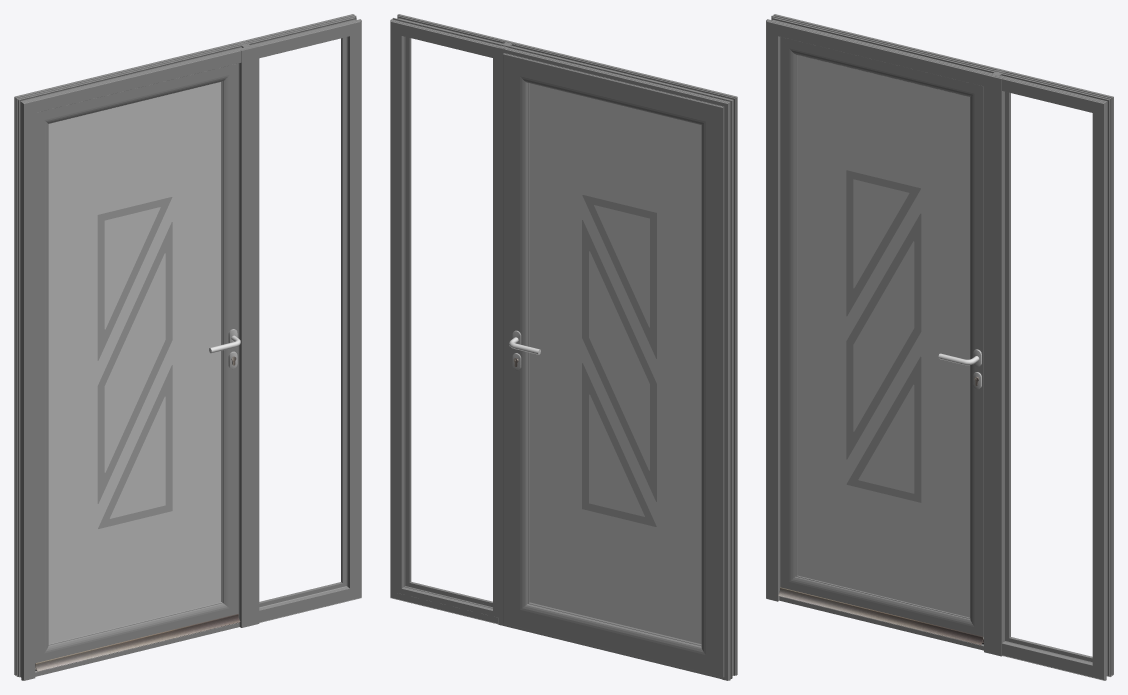
3 views of the same model, side by side, from view 1: azimuth 30°, elevation 25°; view 2: azimuth 150°, elevation 25°; view 3: azimuth 330°, elevation 25° (orthographic).
Parts seen in each view (by area): view 1: fosco_35, aroFixo, aroMovel, montanteCentral, transparente_35, bite, borracha, escovas, rodaPe; view 2: fosco_35, aroMovel, aroFixo, bite, transparente_35, montanteCentral, borracha, rodaPe; view 3: fosco_35, aroFixo, aroMovel, montanteCentral, transparente_35, bite, escovas, borracha, rodaPe.
Part boxes in pixels (box(x1,y1,x2,y2)): fosco_35: box(48, 82, 221, 643); aroFixo: box(14, 14, 361, 680); aroMovel: box(35, 63, 238, 663); montanteCentral: box(238, 42, 259, 627); transparente_35: box(97, 197, 172, 528); bite: box(259, 37, 346, 607); borracha: box(259, 37, 345, 606); escovas: box(35, 614, 240, 671); rodaPe: box(35, 622, 239, 676); fosco_35: box(529, 83, 701, 644); aroMovel: box(503, 53, 724, 677); aroFixo: box(390, 14, 737, 680); bite: box(396, 29, 498, 617); transparente_35: box(582, 195, 656, 526); montanteCentral: box(498, 40, 518, 626); borracha: box(404, 36, 492, 608); rodaPe: box(505, 624, 721, 679); fosco_35: box(797, 55, 969, 617); aroFixo: box(766, 14, 1113, 680); aroMovel: box(780, 37, 983, 638); montanteCentral: box(984, 70, 1004, 656); transparente_35: box(846, 170, 921, 502); bite: box(1005, 91, 1092, 661); escovas: box(778, 587, 983, 645); borracha: box(1006, 92, 1092, 660); rodaPe: box(779, 596, 983, 650).
Size of the model in its own units: 1320 by 2149 by 185.
Materials: 10 (4 with a texture image).
